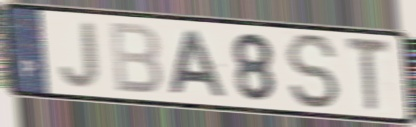8: (230, 30, 277, 104)
A: (168, 29, 230, 100)
B: (107, 20, 165, 98)
J: (58, 20, 102, 90)
S: (283, 32, 341, 112)
T: (344, 35, 393, 115)
